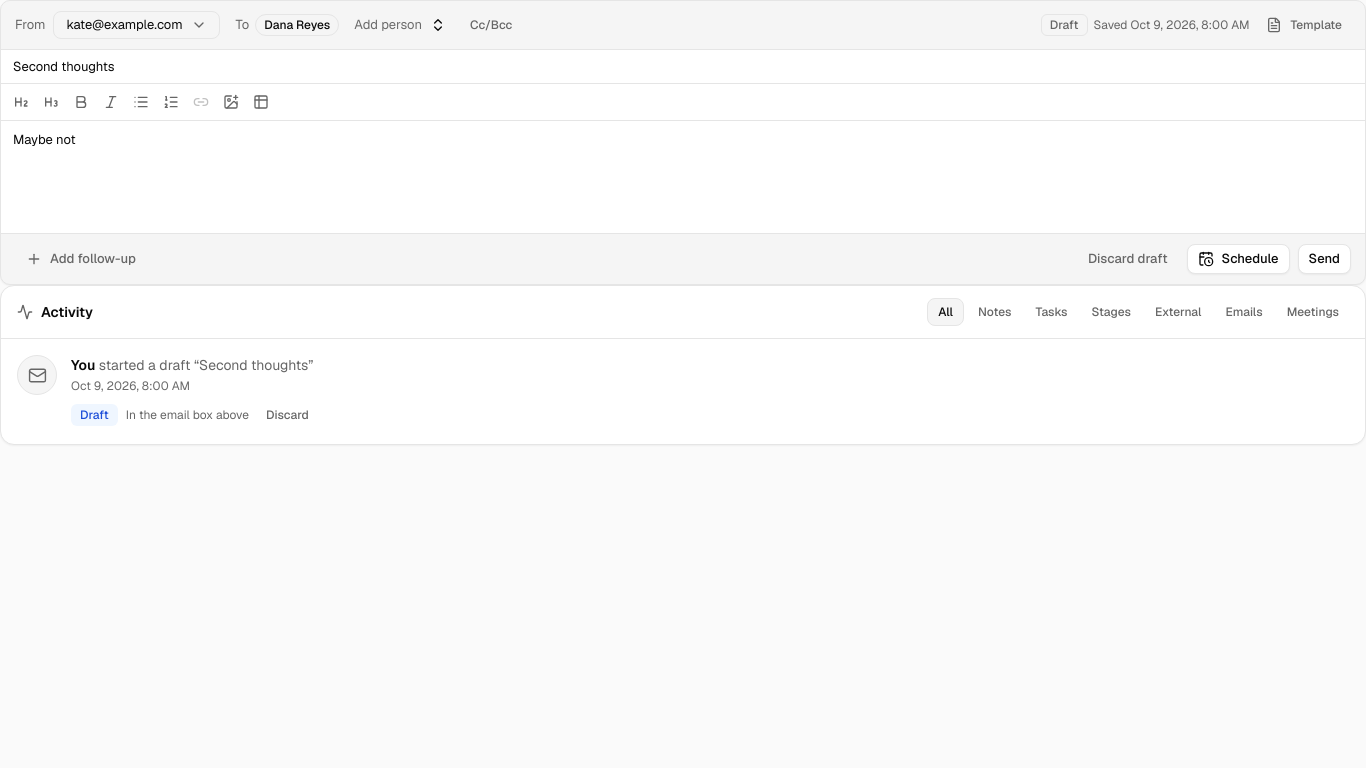
Test: Discard on the record’s activity › discards the draft open in the composer: the composer empties and does not save it back
Expected: the field named "Subject" reads "Second thoughts", [13,58,114,75]
Expected: the text "started a draft “Second thoughts”" is shown, [99,356,314,374]
Click the button "Discard". click: (287, 415)
box: [257,402,318,428]
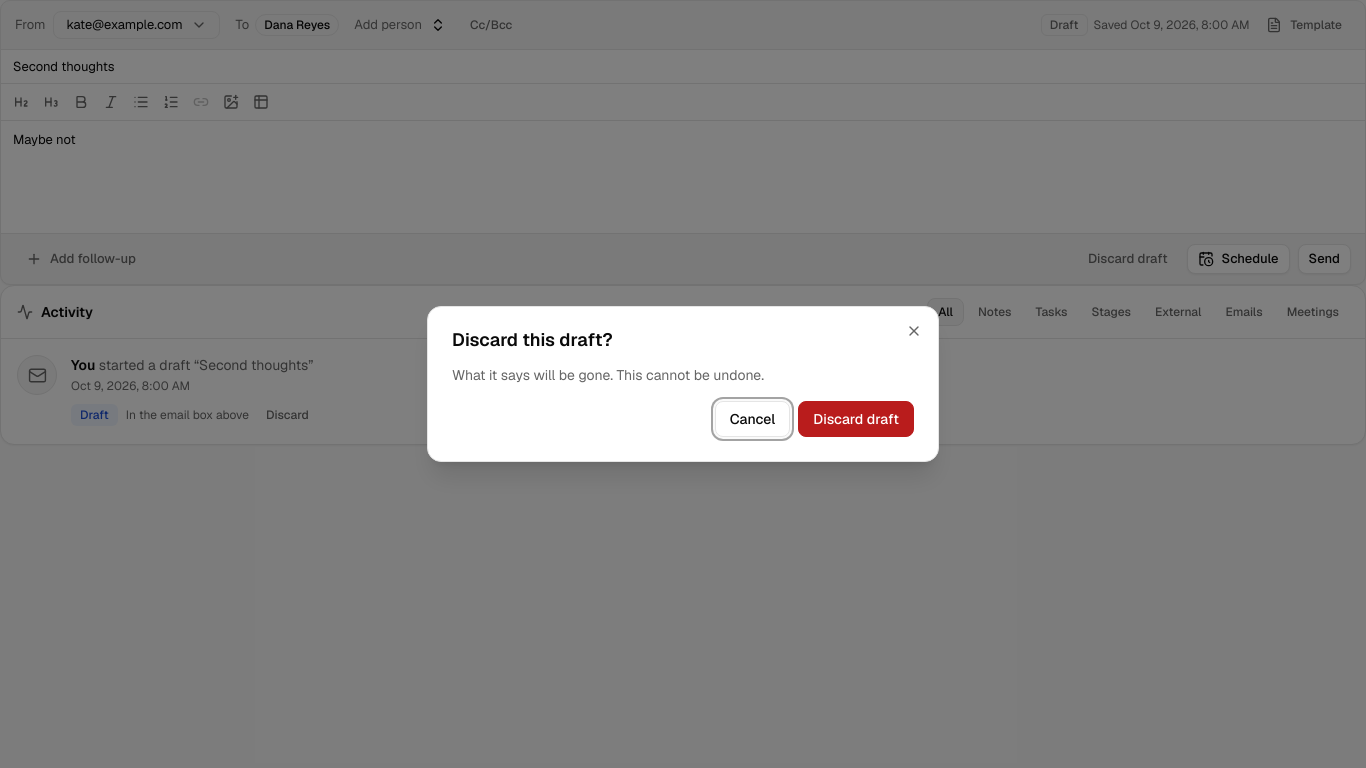
Click the button "Discard draft". click: (856, 419)
box: [798,401,914,437]
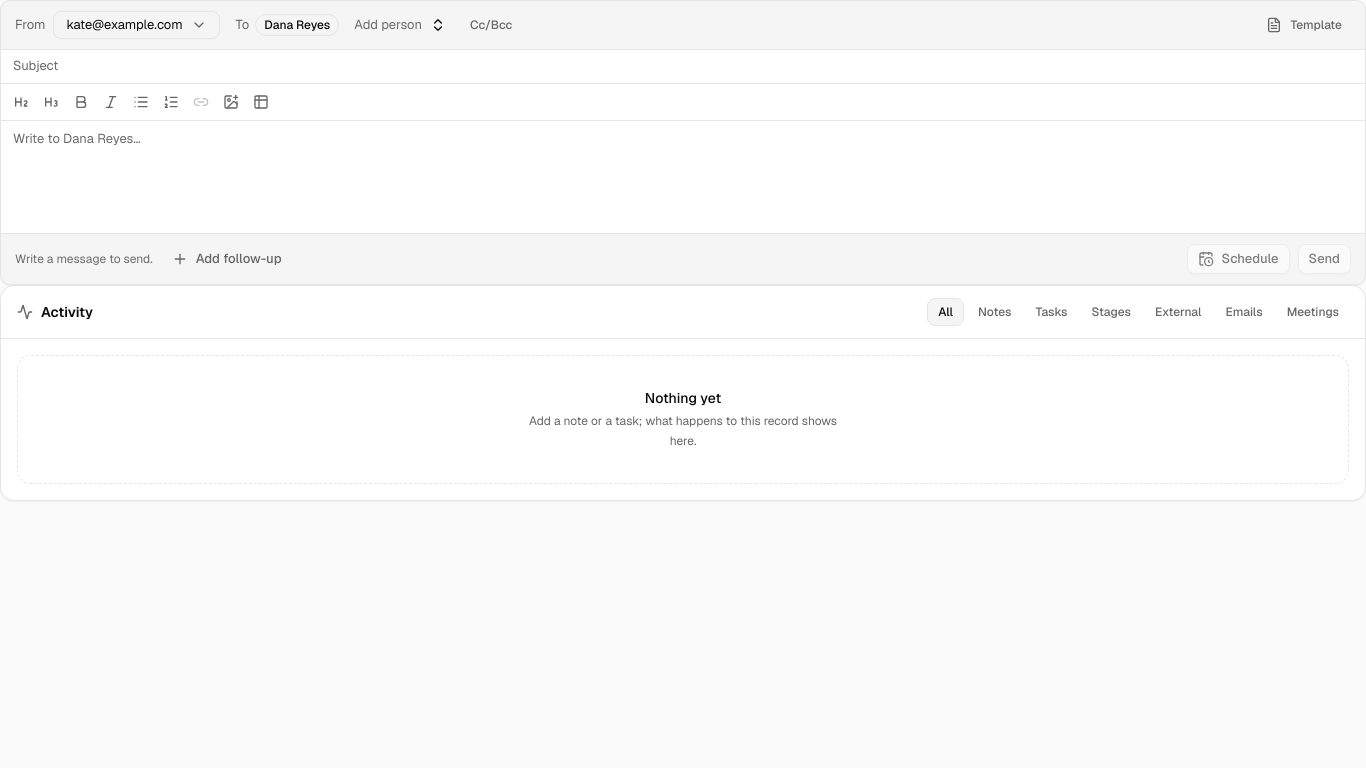
Expected: the field named "Subject" no longer shows "Second thoughts", [1,50,1365,83]
Expected: the text "started a draft “Second thoughts”" is gone
